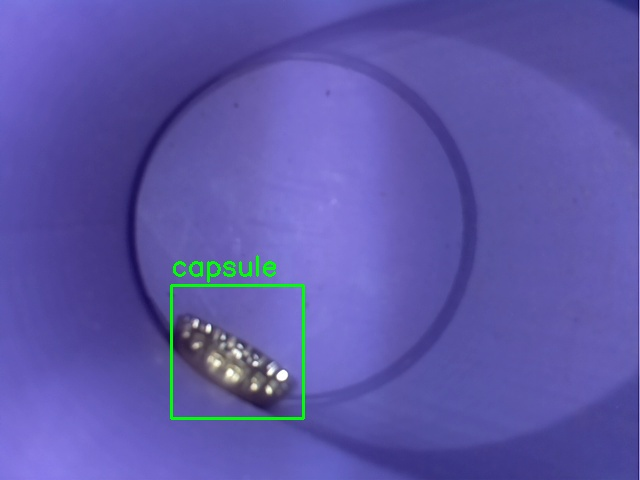capsule: (171, 285, 303, 418)
